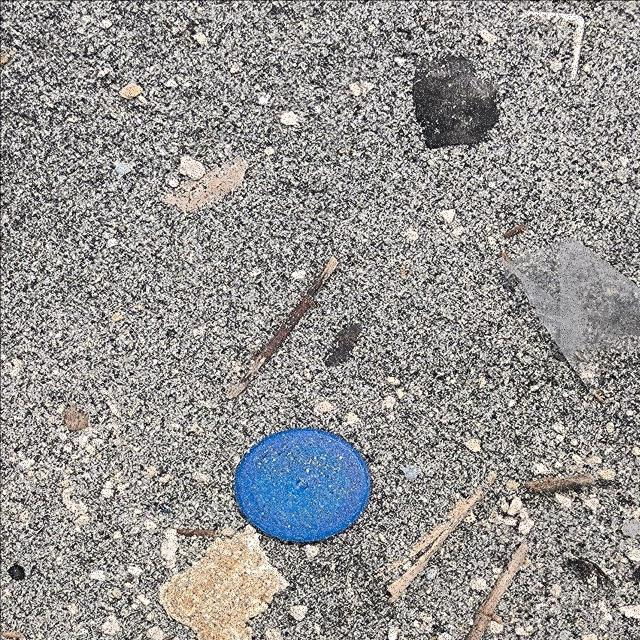plastic_waste: (235, 428, 371, 545)
